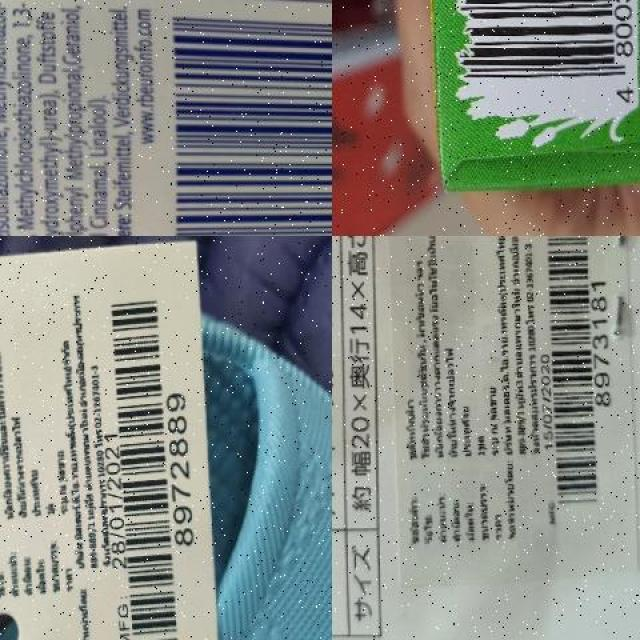Barcode: (159, 7, 332, 236), (100, 281, 189, 640), (540, 236, 609, 515), (461, 0, 631, 100)
